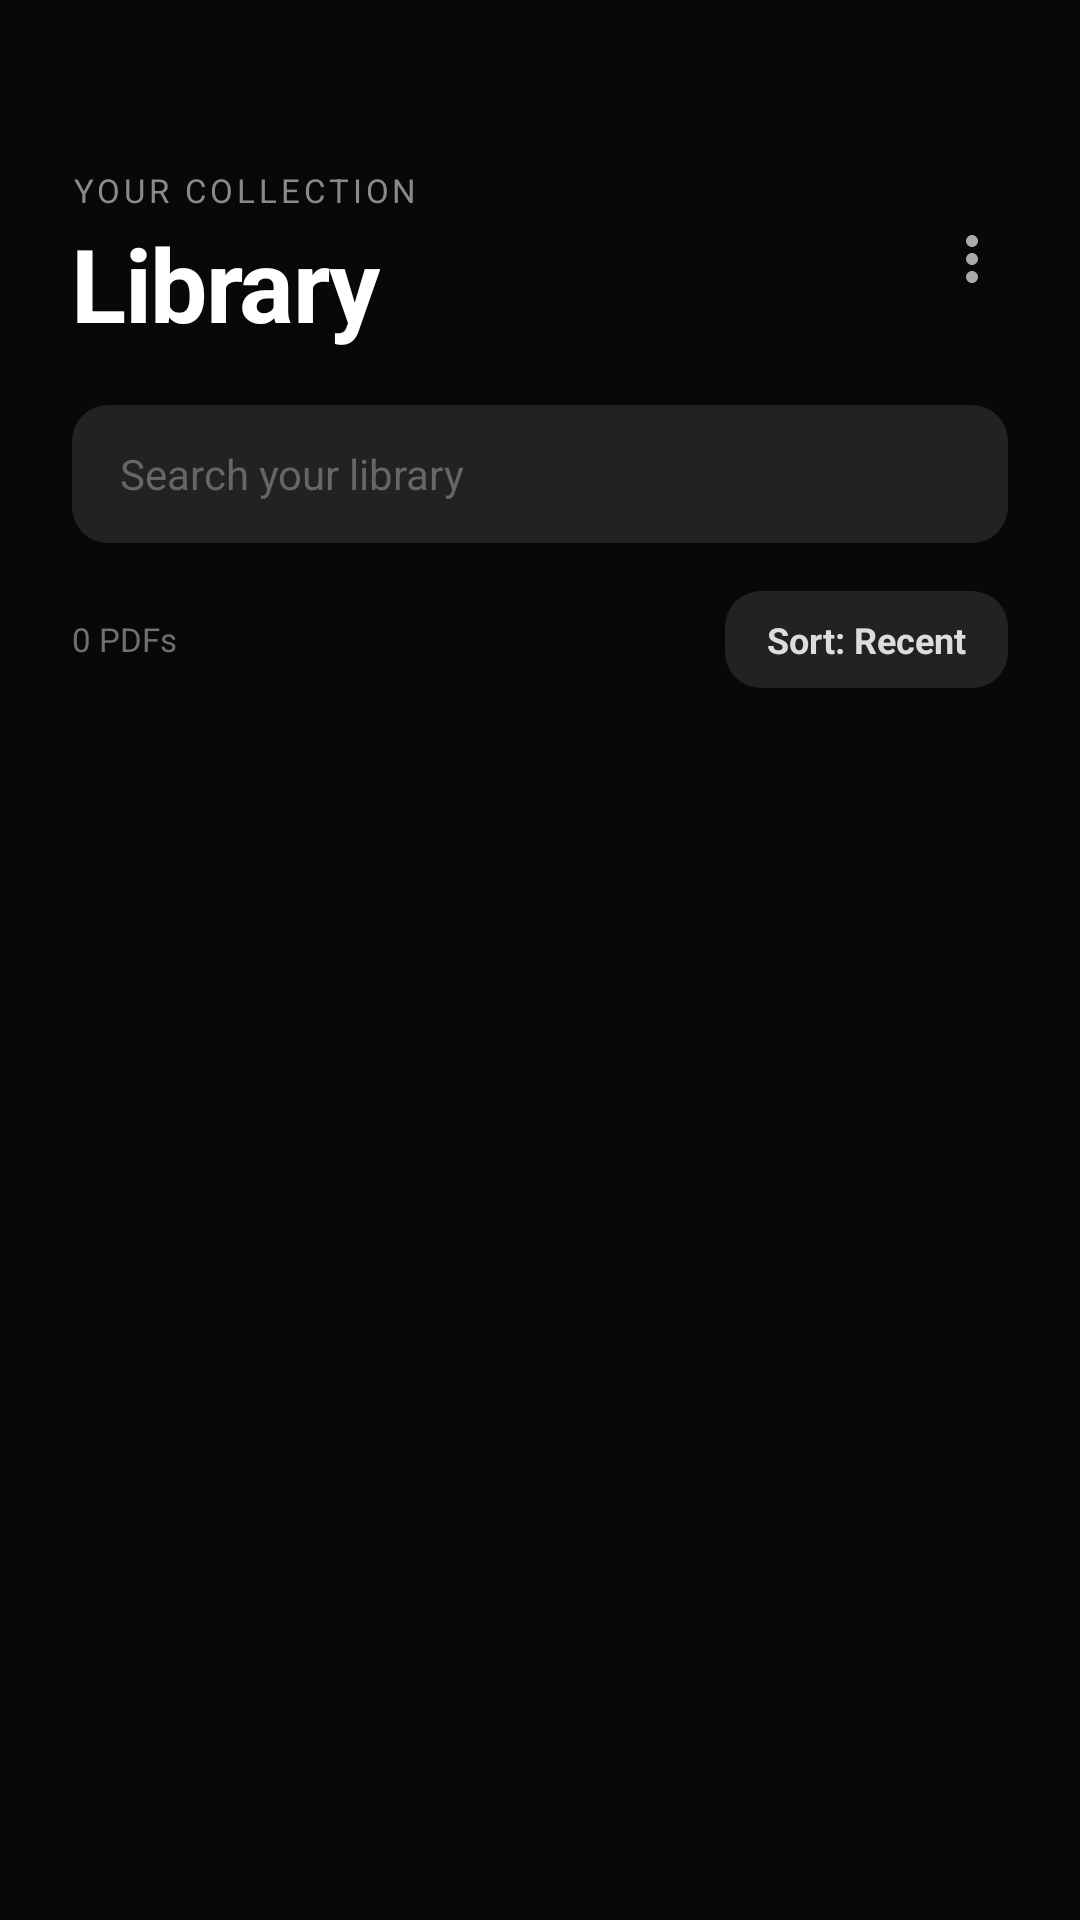

Icon bounding boxes for this 1080w x 1920h phone screenshot, format (x1, y1, x2, y2):
More options: (966, 235, 978, 283)
